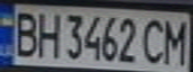2: (115, 13, 142, 64)
3: (60, 9, 84, 60)
4: (81, 11, 103, 61)
6: (100, 12, 121, 63)
B: (9, 8, 42, 59)
C: (139, 15, 169, 65)
H: (33, 8, 63, 60)
M: (160, 16, 193, 66)
